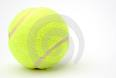tennis ball: (8, 7, 68, 70)
